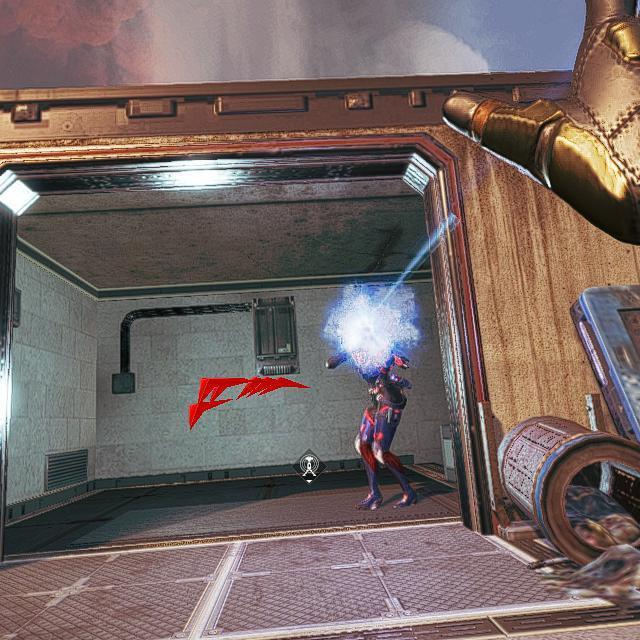avatar: (324, 285, 420, 511)
object: (323, 281, 421, 377)
